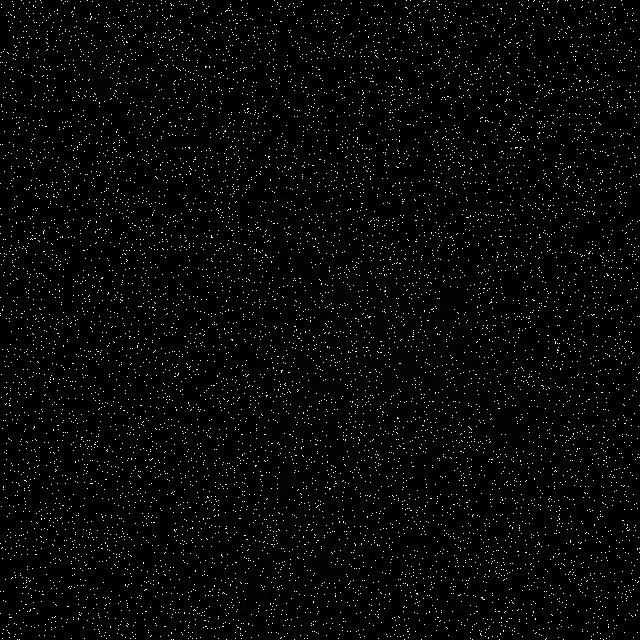adapter: (373, 444, 534, 640)
